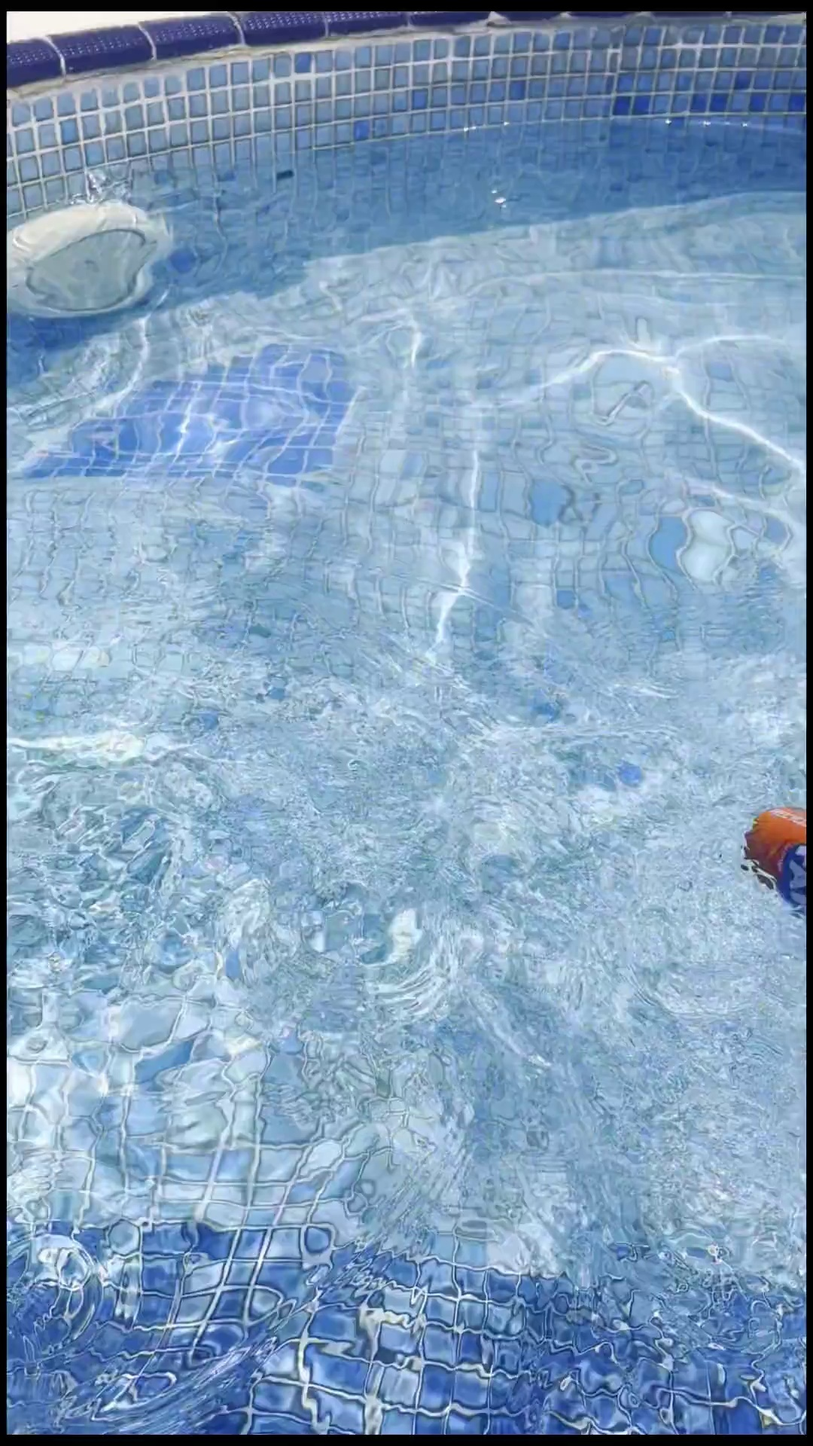debris: (737, 779, 802, 944)
